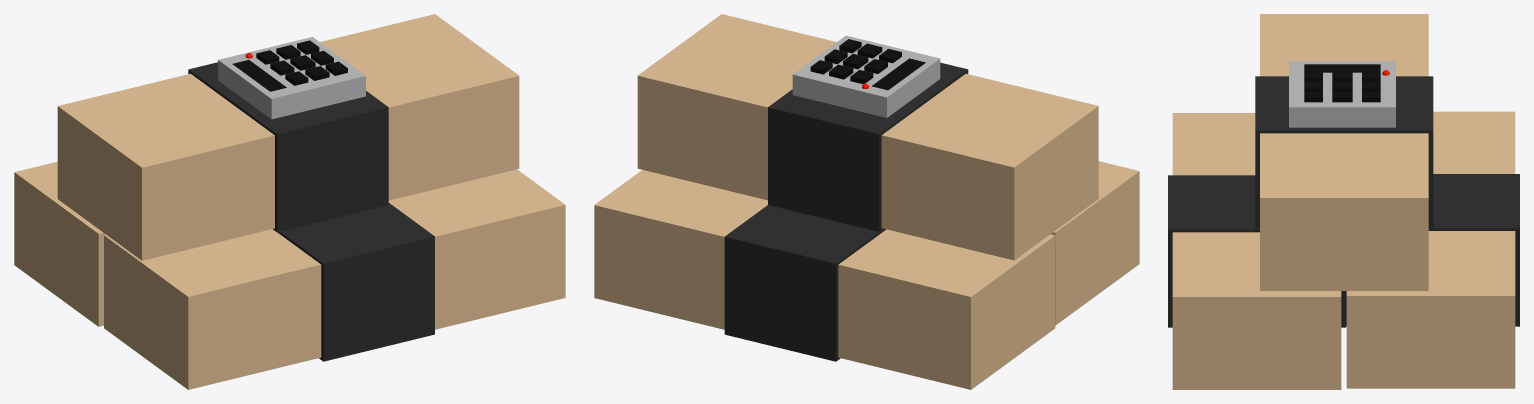
The model's file is BoomBomb.fbx.
3 renders of one model, left to right at view 1: azimuth 30°, elevation 25°; view 2: azimuth 150°, elevation 25°; view 3: azimuth 270°, elevation 25°, orthographic.
Visible parts, largest first — view 1: Brick3, Brick1, Brick2, Timer; view 2: Brick3, Brick2, Brick1, Timer; view 3: Brick3, Brick1, Brick2, Timer.
Part boxes in pixels (x1=…): Brick3: x1=57, y1=14, x2=519, y2=260; Brick1: x1=104, y1=169, x2=565, y2=389; Brick2: x1=14, y1=161, x2=105, y2=326; Timer: x1=218, y1=37, x2=365, y2=119; Brick3: x1=637, y1=14, x2=1098, y2=260; Brick2: x1=594, y1=170, x2=1055, y2=389; Brick1: x1=1051, y1=161, x2=1139, y2=325; Timer: x1=792, y1=35, x2=940, y2=117; Brick3: x1=1255, y1=14, x2=1433, y2=290; Brick1: x1=1168, y1=113, x2=1345, y2=389; Brick2: x1=1346, y1=111, x2=1519, y2=388; Timer: x1=1289, y1=61, x2=1395, y2=127.
Bounding box in the file's own units: 56.44 × 31.37 × 45.28.
